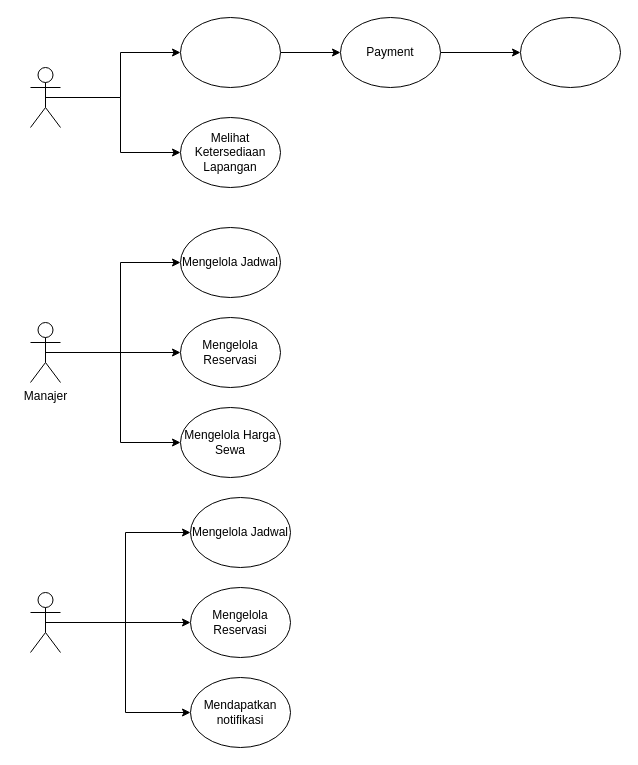
Some shapes in this 638 by 765 pixel diagram are drawn without their labels. The shapes that lost their labels are listed below. From the top down, each one's centre as x and y in pixels, then its label:
pixel 230 52: Membuat Reservasi
pixel 570 52: Konfirmasi
pixel 45 97: Pelanggan
pixel 45 622: Petugas
